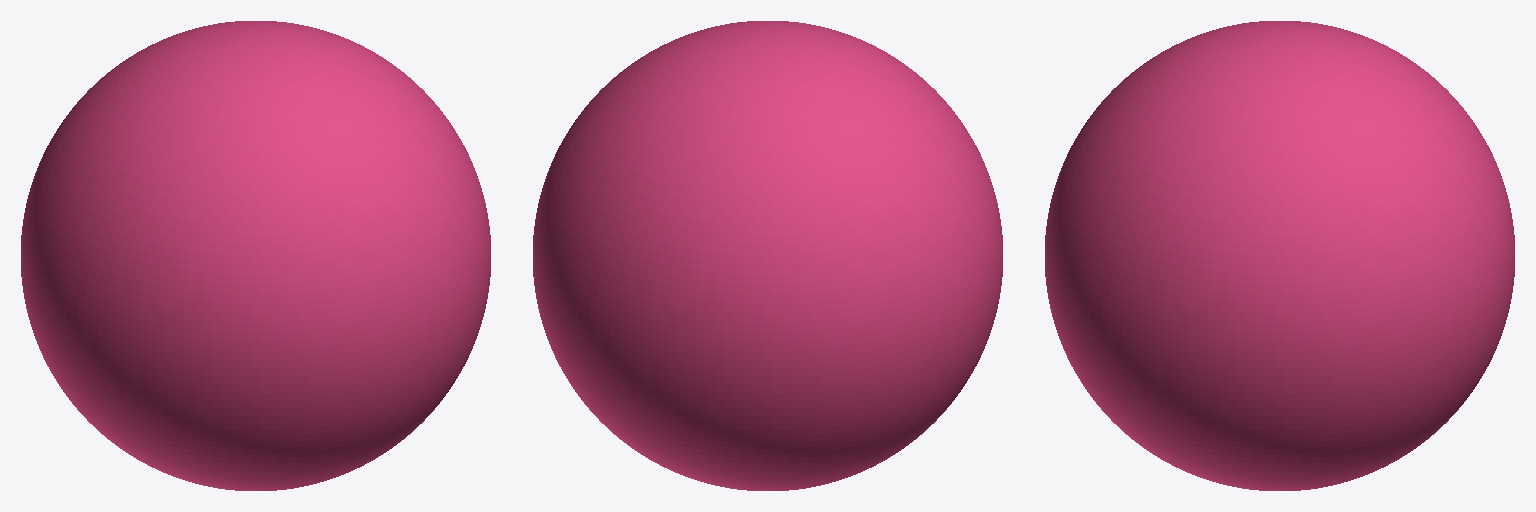
Rendered from Planet_HIGHPOLY.obj.
3 views of the same model, side by side, from view 1: azimuth 30°, elevation 25°; view 2: azimuth 150°, elevation 25°; view 3: azimuth 270°, elevation 25° (orthographic).
Visible parts, largest first — view 1: Planet_HIGHPOLY; view 2: Planet_HIGHPOLY; view 3: Planet_HIGHPOLY.
Part boxes in pixels (x1,y1,x2,y2): Planet_HIGHPOLY: (21,21,490,490); Planet_HIGHPOLY: (533,21,1002,490); Planet_HIGHPOLY: (1045,21,1514,490).
Bounding box in the file's own units: 69.33 × 69.36 × 69.34.